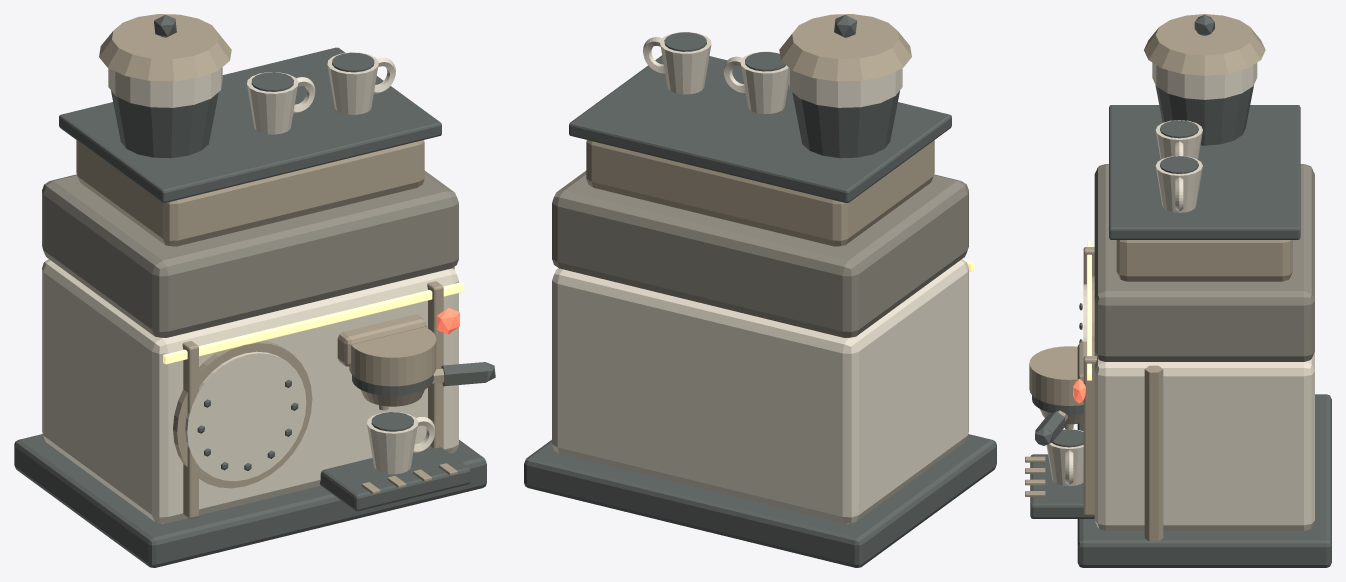
Rendered from common_machine_body.glb.
The picture shows the model from 3 angles, left to right: view 1: azimuth 30°, elevation 25°; view 2: azimuth 150°, elevation 25°; view 3: azimuth 270°, elevation 25°; orthographic projection. The views are drawn at different scales.
Visible parts, largest first — view 1: common_machine_body__common-ivory, common_machine_body__common-dark-timber, common_machine_body__common-sage, common_machine_body__common-brushed-brass, common_machine_body__machine-power-strip; view 2: common_machine_body__common-ivory, common_machine_body__common-dark-timber, common_machine_body__common-sage, common_machine_body__common-brushed-brass; view 3: common_machine_body__common-ivory, common_machine_body__common-dark-timber, common_machine_body__common-brushed-brass, common_machine_body__common-sage, common_machine_body__machine-power-strip.
Part boxes in pixels (left/top/right/bottom): common_machine_body__common-ivory: left=42, top=52, right=458, bottom=523; common_machine_body__common-dark-timber: left=14, top=14, right=495, bottom=567; common_machine_body__common-sage: left=42, top=170, right=458, bottom=337; common_machine_body__common-brushed-brass: left=76, top=14, right=457, bottom=518; common_machine_body__machine-power-strip: left=163, top=282, right=464, bottom=364; common_machine_body__common-ivory: left=552, top=32, right=968, bottom=523; common_machine_body__common-dark-timber: left=524, top=14, right=996, bottom=567; common_machine_body__common-sage: left=552, top=171, right=968, bottom=337; common_machine_body__common-brushed-brass: left=586, top=14, right=934, bottom=246; common_machine_body__common-ivory: left=1046, top=62, right=1314, bottom=530; common_machine_body__common-dark-timber: left=1030, top=15, right=1331, bottom=567; common_machine_body__common-brushed-brass: left=1025, top=14, right=1292, bottom=541; common_machine_body__common-sage: left=1094, top=164, right=1314, bottom=361; common_machine_body__machine-power-strip: left=1087, top=240, right=1091, bottom=380.
Size of the model in its own units: 2.13 by 2.88 by 1.81.
